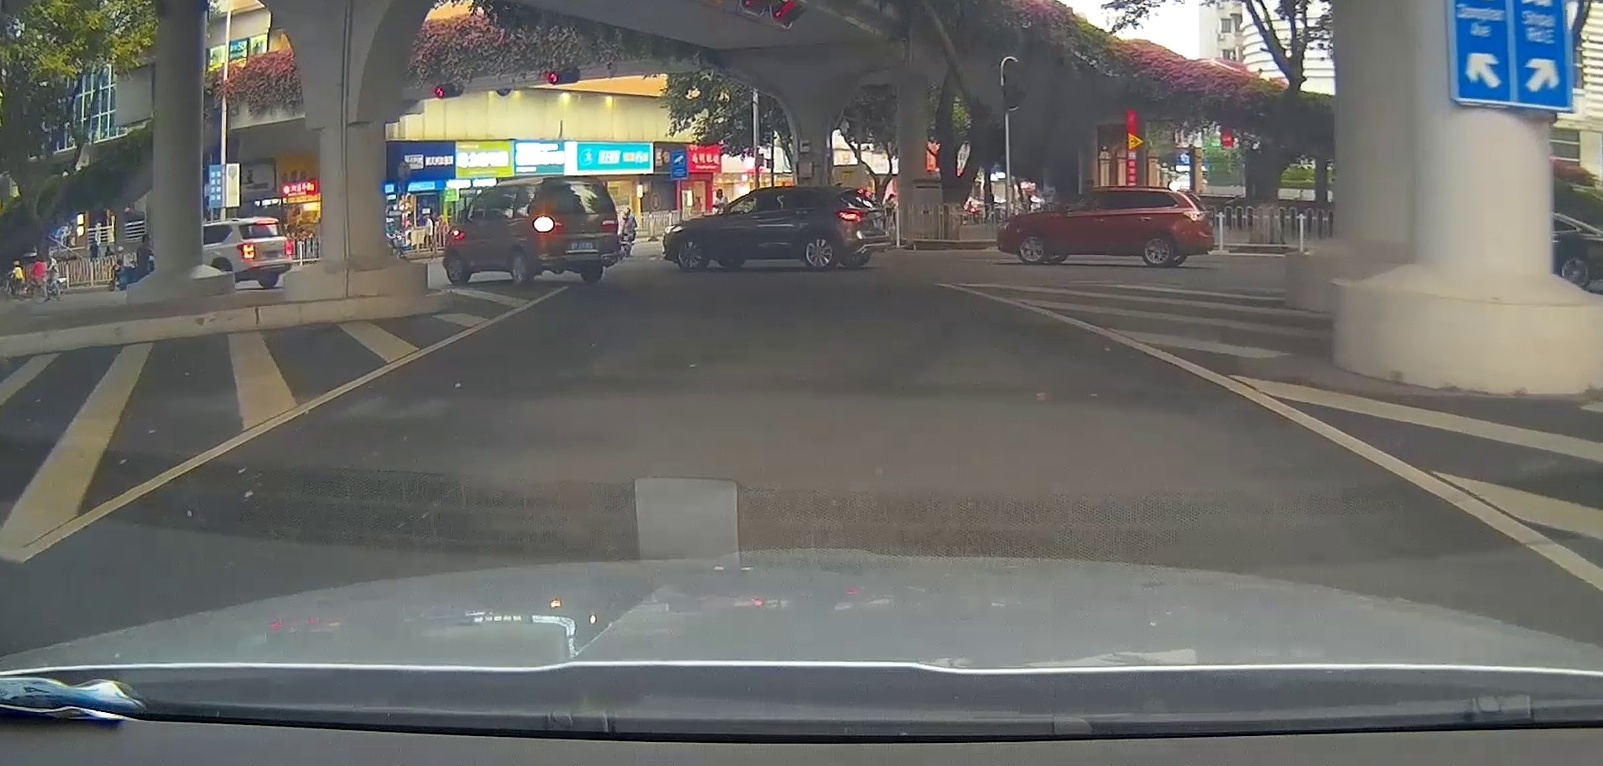L_light: (534, 220, 562, 232), (237, 243, 255, 260)
R_light: (602, 220, 617, 231), (284, 239, 293, 256)
T_light: (255, 220, 276, 225), (575, 181, 590, 184)
day-brake: (234, 218, 293, 288)
day-left: (531, 175, 619, 282)
